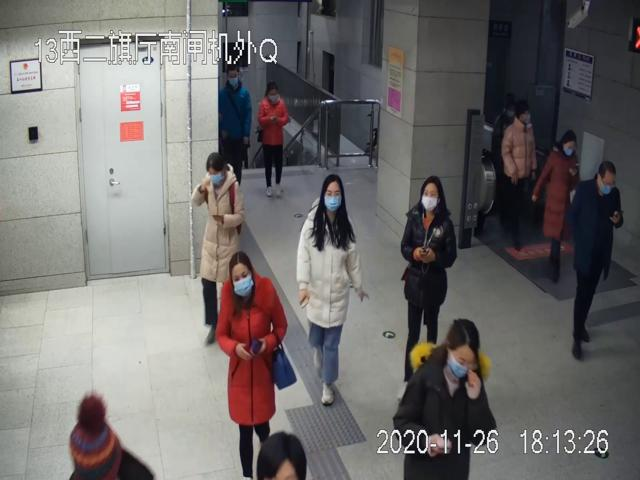person: (216, 251, 289, 478), (394, 319, 496, 480), (296, 174, 364, 408), (398, 176, 458, 400), (570, 160, 623, 360), (192, 152, 243, 345), (532, 126, 579, 287), (257, 82, 291, 200)
